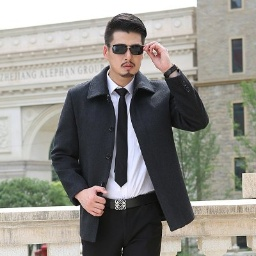face: (104, 14, 148, 76)
